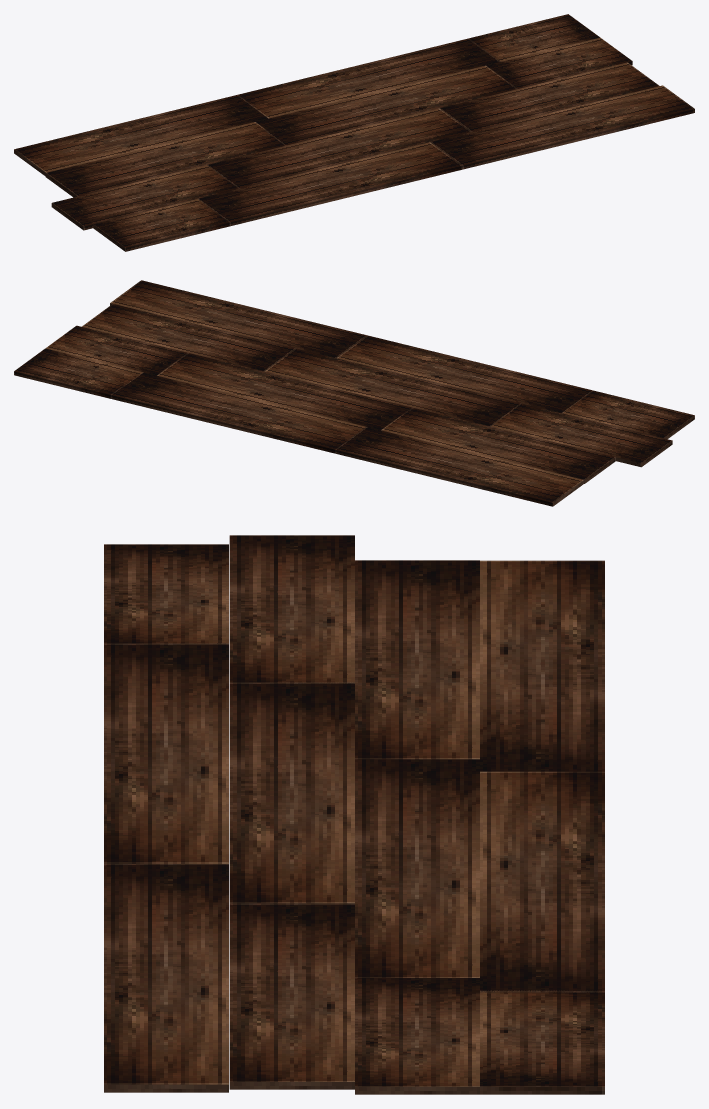
The model's file is SM_Floor.glb.
3 views of the same model, one above another, from view 1: azimuth 30°, elevation 25°; view 2: azimuth 150°, elevation 25°; view 3: azimuth 270°, elevation 25° (orthographic). The views are drawn at different scales.
Parts seen in each view (by area): view 1: SM_Floor; view 2: SM_Floor; view 3: SM_Floor.
Boxes of the visible parts, x1,y1,x2,y2 form: SM_Floor: (14, 14, 694, 251); SM_Floor: (14, 280, 694, 506); SM_Floor: (104, 535, 604, 1094).
Bounding box in the file's own units: 20.87 × 0.1396 × 8.01.
1 material, 1 textured.
